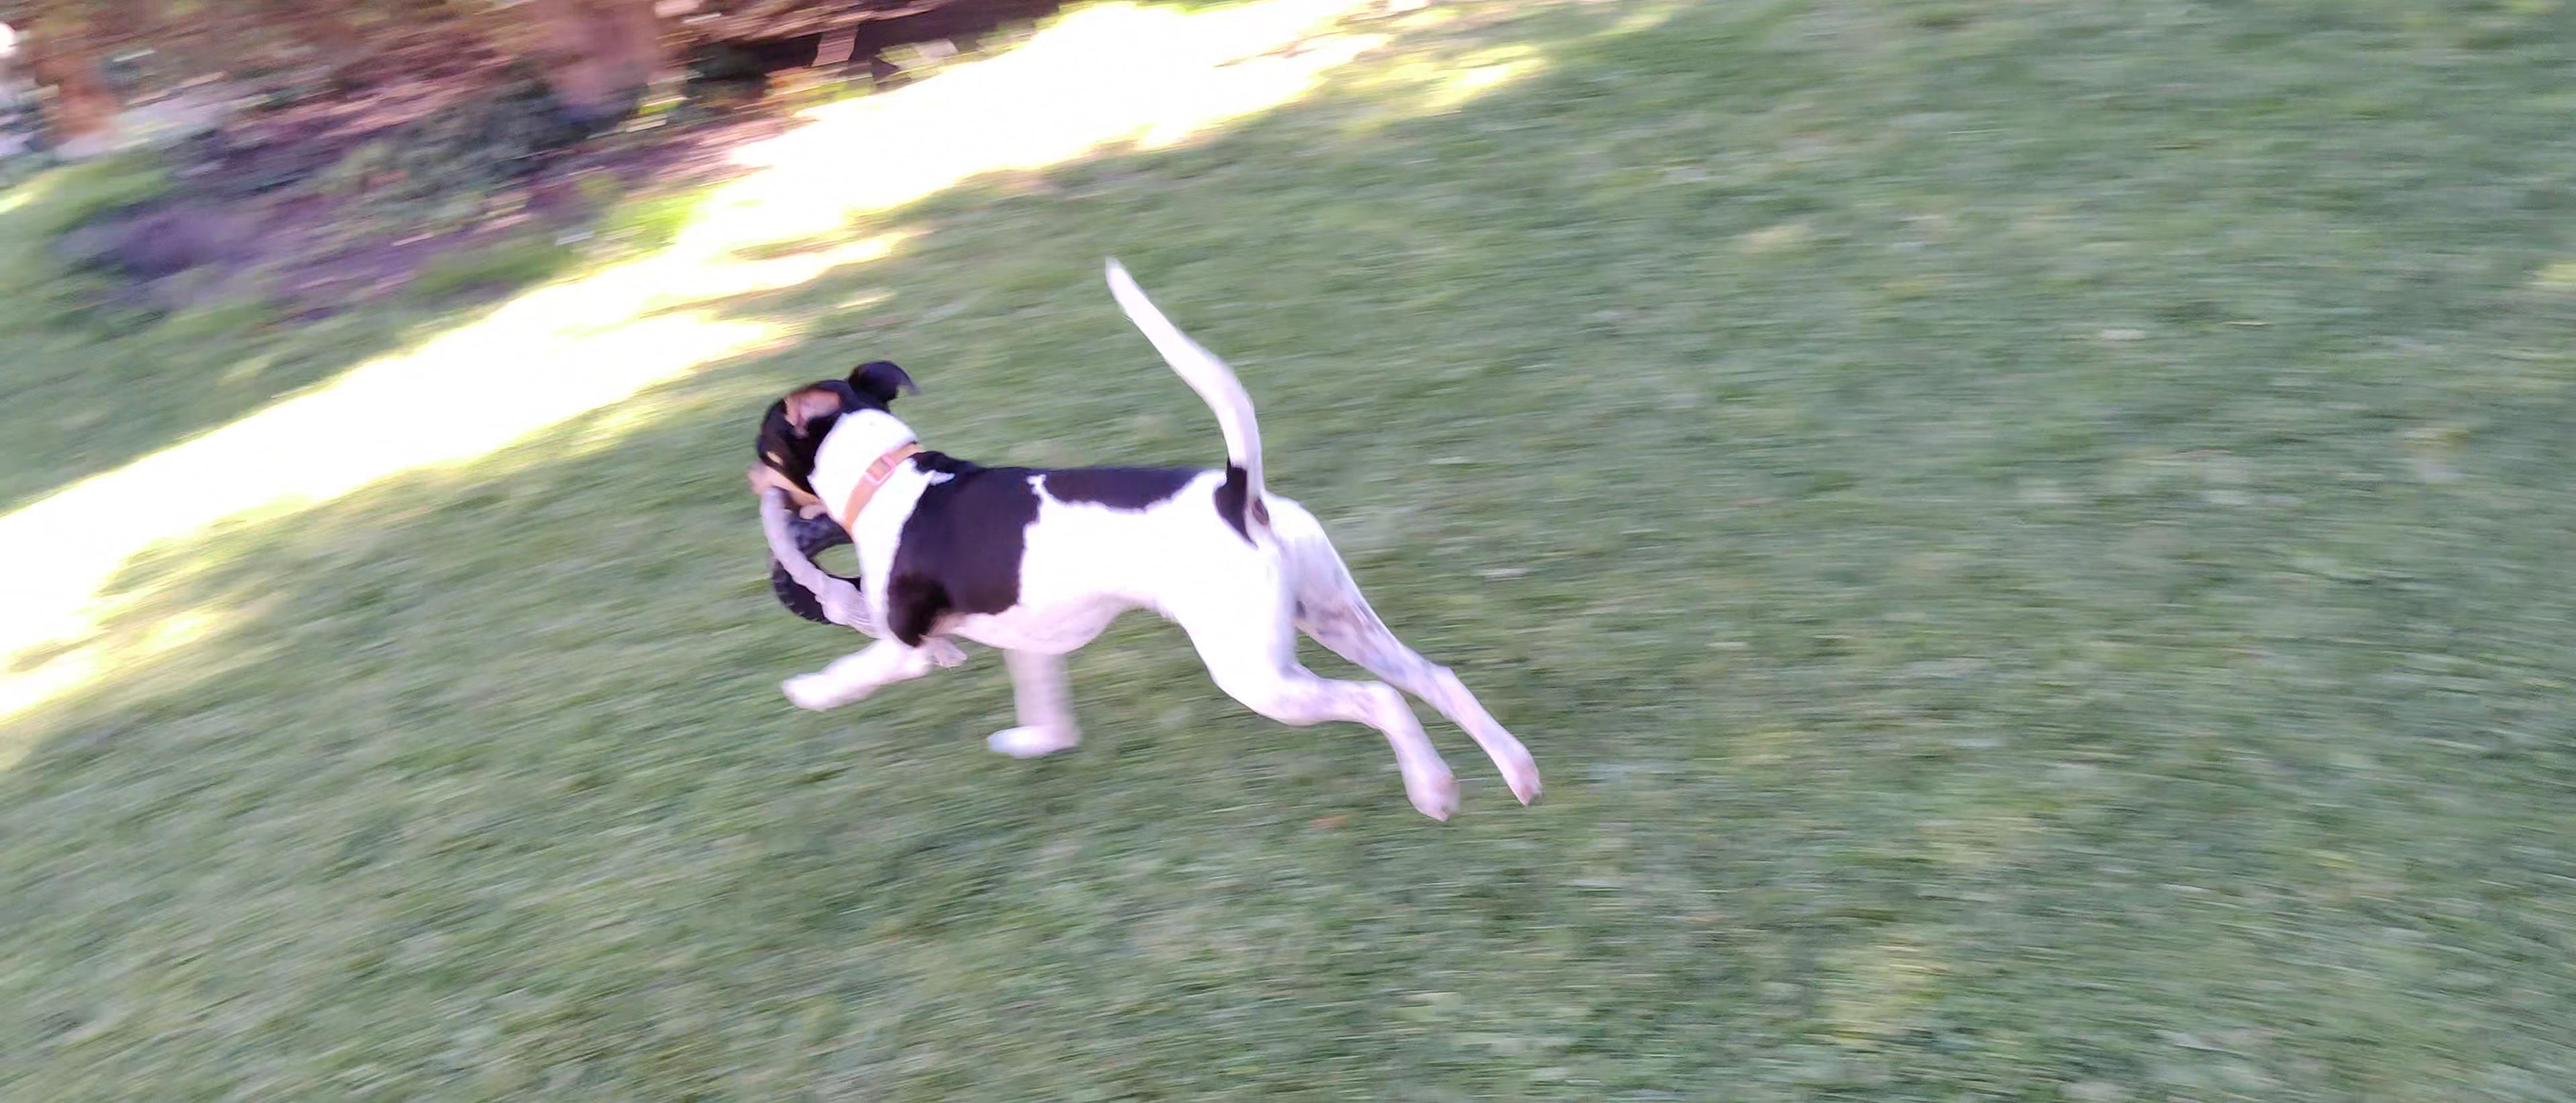Dog: (726, 240, 1562, 835)
